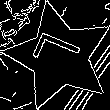L_SE: (29, 32, 89, 81)
